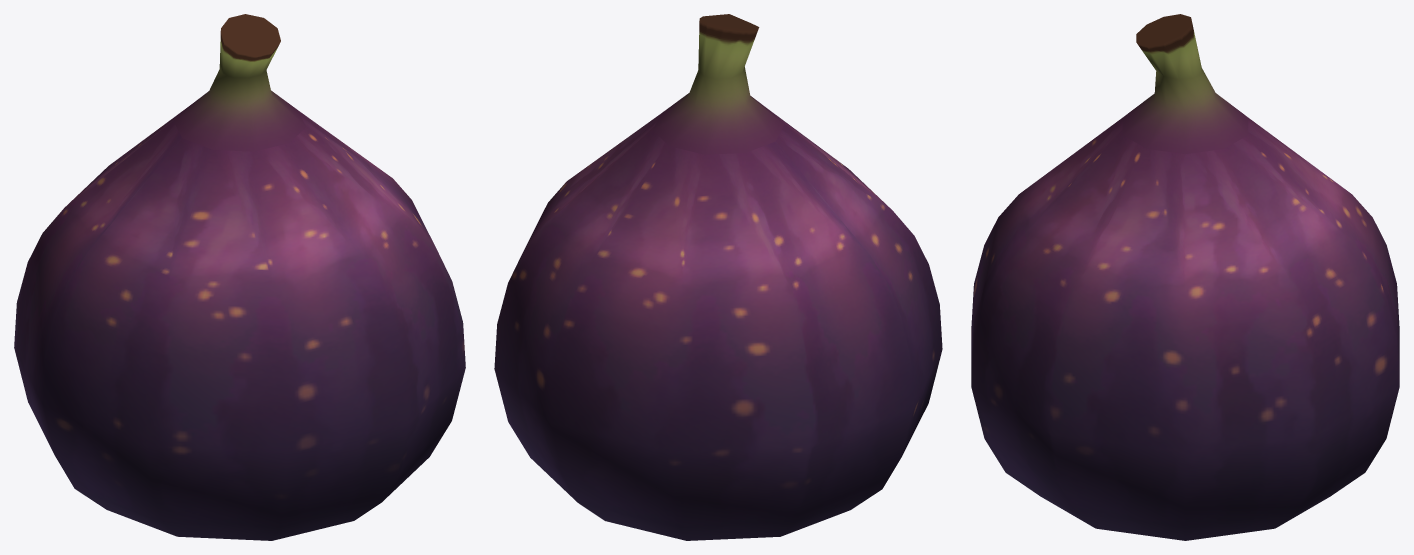
File: Fig_Purple.fbx
3 views of the same model, side by side, from view 1: azimuth 30°, elevation 25°; view 2: azimuth 150°, elevation 25°; view 3: azimuth 270°, elevation 25° (orthographic).
Visible parts, largest first — view 1: Fig_Purple; view 2: Fig_Purple; view 3: Fig_Purple.
Boxes of the visible parts, bbox=[...] form: Fig_Purple: bbox=[14, 14, 465, 540]; Fig_Purple: bbox=[494, 14, 942, 540]; Fig_Purple: bbox=[971, 14, 1399, 540].
Bounding box in the file's own units: 26.02 × 31.38 × 24.75.
